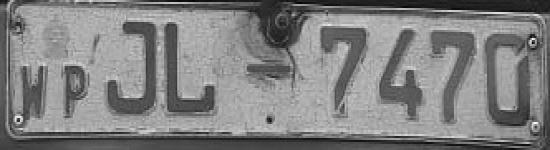-: (241, 55, 296, 81)
0: (481, 31, 531, 136)
4: (374, 22, 428, 122)
7: (315, 20, 370, 125), (430, 28, 478, 127)
J: (104, 12, 160, 122)
L: (163, 20, 224, 124)
P: (59, 63, 93, 118)
W: (16, 60, 53, 122)
